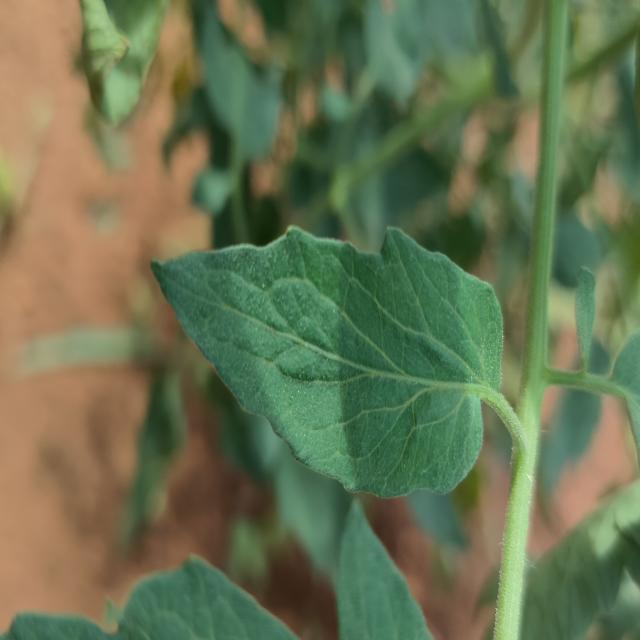tomato_healthy: (146, 222, 509, 501)
